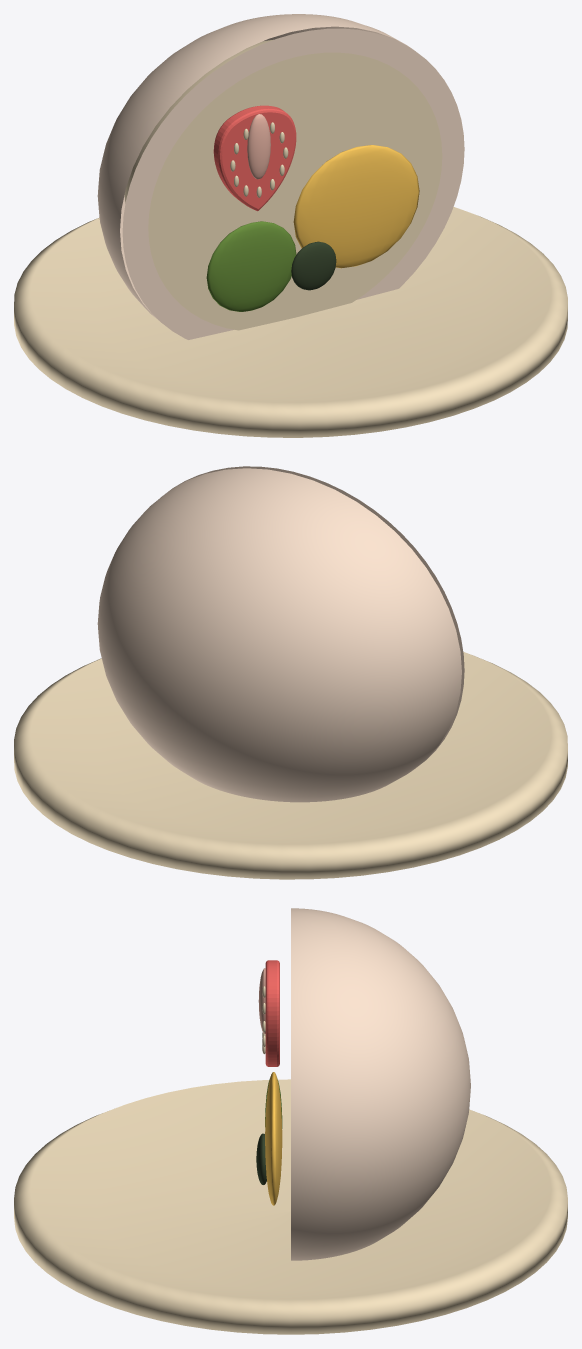
File: 60-fruit-mochi.glb
The picture shows the model from 3 angles, top to bottom: view 1: azimuth 30°, elevation 25°; view 2: azimuth 150°, elevation 25°; view 3: azimuth 270°, elevation 25°; orthographic projection.
Parts seen in each view (by area): view 1: 계절 과일 모찌; view 2: 계절 과일 모찌; view 3: 계절 과일 모찌.
Part boxes in pixels (x1,y1,x2,y2): 계절 과일 모찌: [14, 14, 567, 437]; 계절 과일 모찌: [14, 466, 567, 879]; 계절 과일 모찌: [14, 908, 567, 1334].
Bounding box in the file's own units: 1.6 × 1 × 1.6.
